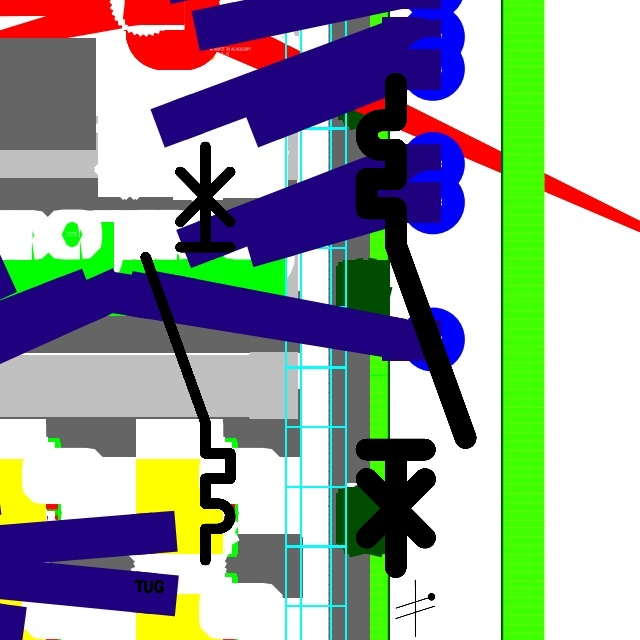interruptor_termomagnetico: (354, 71, 478, 580), (135, 136, 241, 571)
